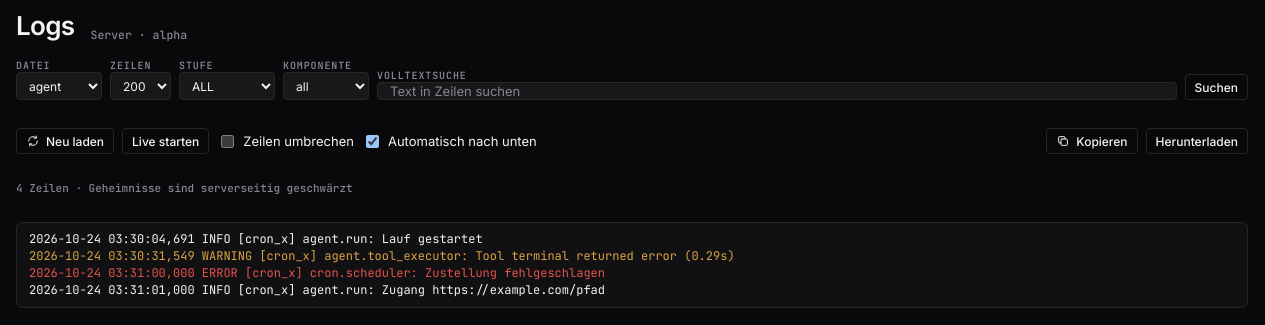
Logs › toggles wrapping and copies the visible lines
This screenshot has width=1265, height=325.
Click the checkbox labelled "Zeilen umbrechen" at (228, 141), box [221,134,234,148]
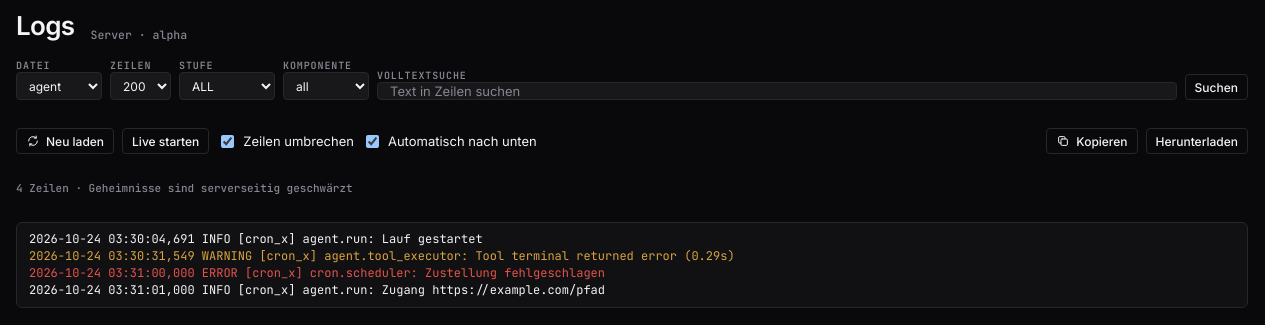
Click the button "Kopieren" at (1092, 141), box [1046,128,1138,154]
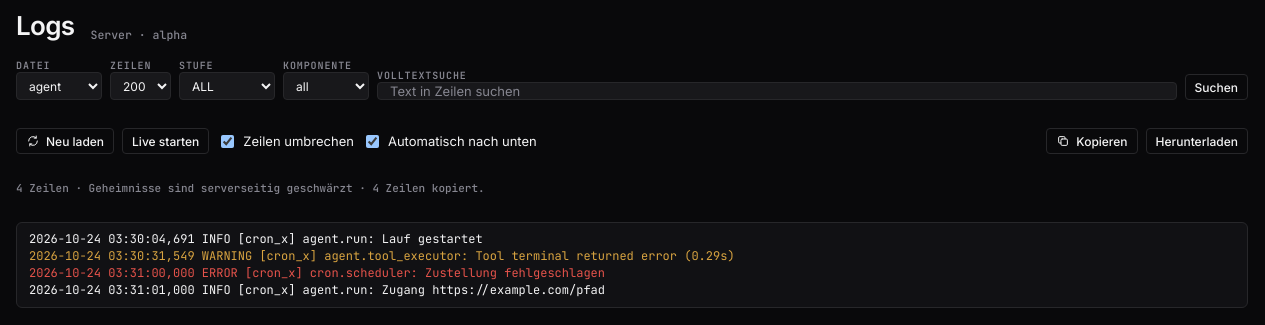
Result: the message shows "4 Zeilen kopiert." at [353,181,485,195]
